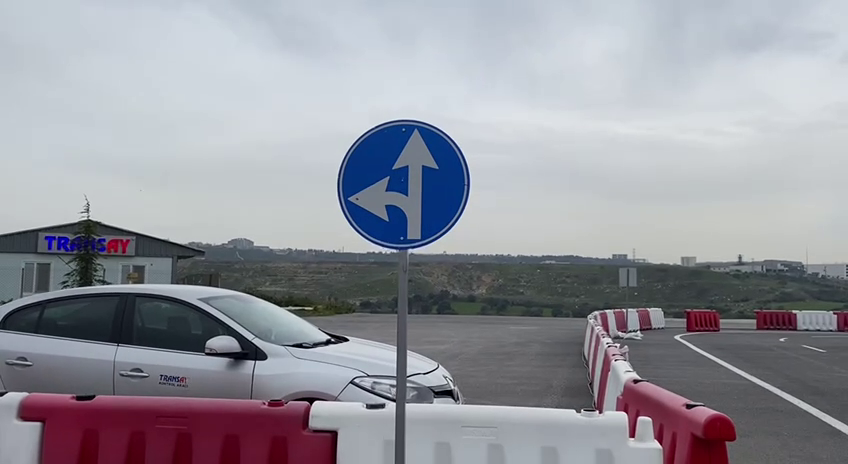forwardAndLeft: (333, 116, 473, 252)
